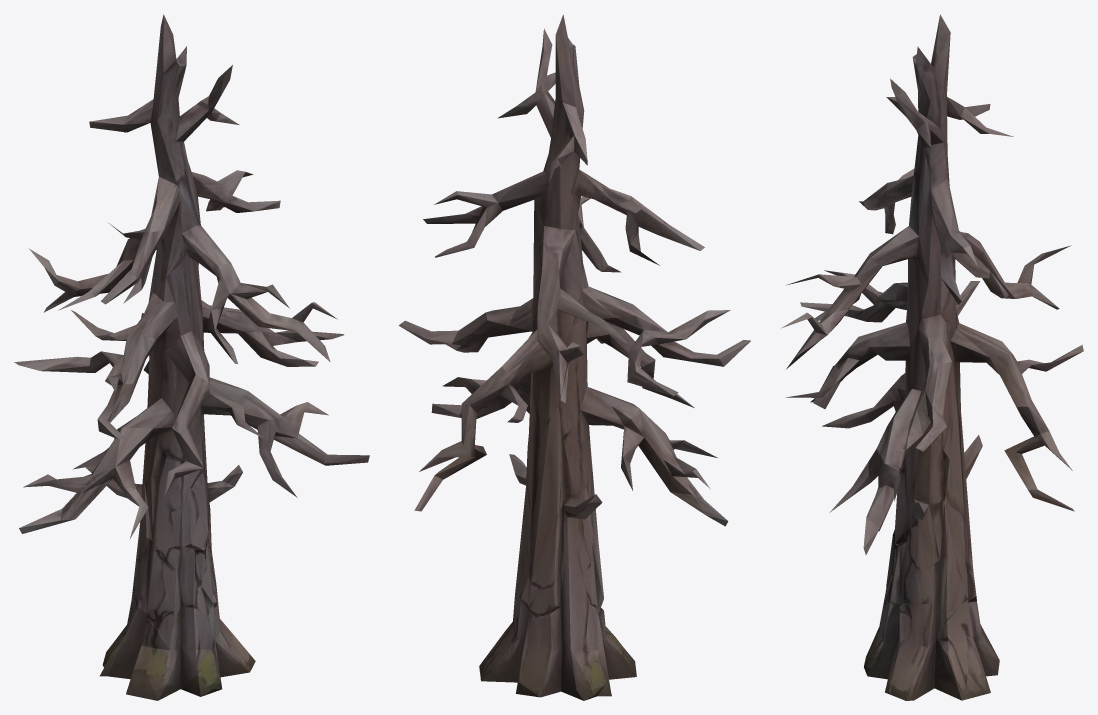
File: bg_wasteland_dead_2_lod0.glb
The picture shows the model from 3 angles, left to right: view 1: azimuth 30°, elevation 25°; view 2: azimuth 150°, elevation 25°; view 3: azimuth 270°, elevation 25°; orthographic projection.
Visible parts, largest first — view 1: body; view 2: body; view 3: body.
Boxes of the visible parts, <box> form: body: <box>14,14,369,700</box>; body: <box>399,14,750,700</box>; body: <box>781,14,1083,700</box>.
Bounding box in the file's own units: 1.82 × 3.5 × 1.48.
Materials: 1 (1 with a texture image).
